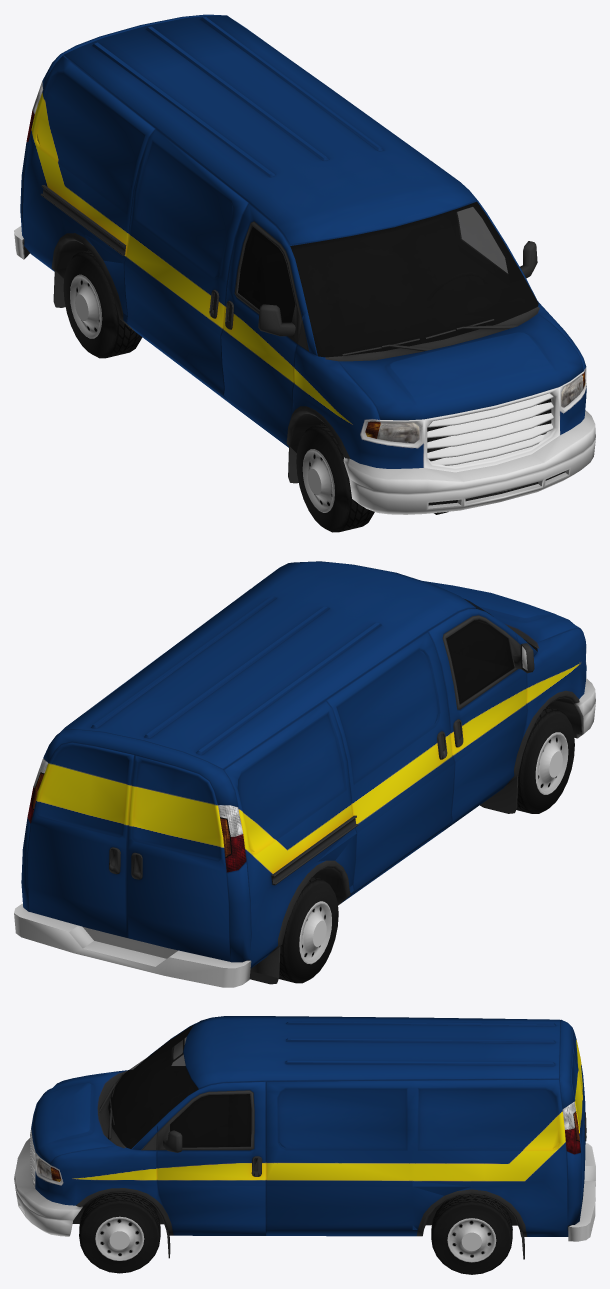
The model's file is veicolo_furgone_medio.glb.
The picture shows the model from 3 angles, top to bottom: view 1: azimuth 30°, elevation 25°; view 2: azimuth 150°, elevation 25°; view 3: azimuth 270°, elevation 25°; orthographic projection. The views are drawn at different scales.
Visible parts, largest first — view 1: sb_modello; view 2: sb_modello; view 3: sb_modello.
Part boxes in pixels (bbox=[...]): sb_modello: bbox=[14, 14, 595, 532]; sb_modello: bbox=[14, 561, 595, 987]; sb_modello: bbox=[14, 1016, 595, 1274].
Size of the model in its own units: 2.19 by 1.98 by 5.35.
Materials: 3 (3 with a texture image).
